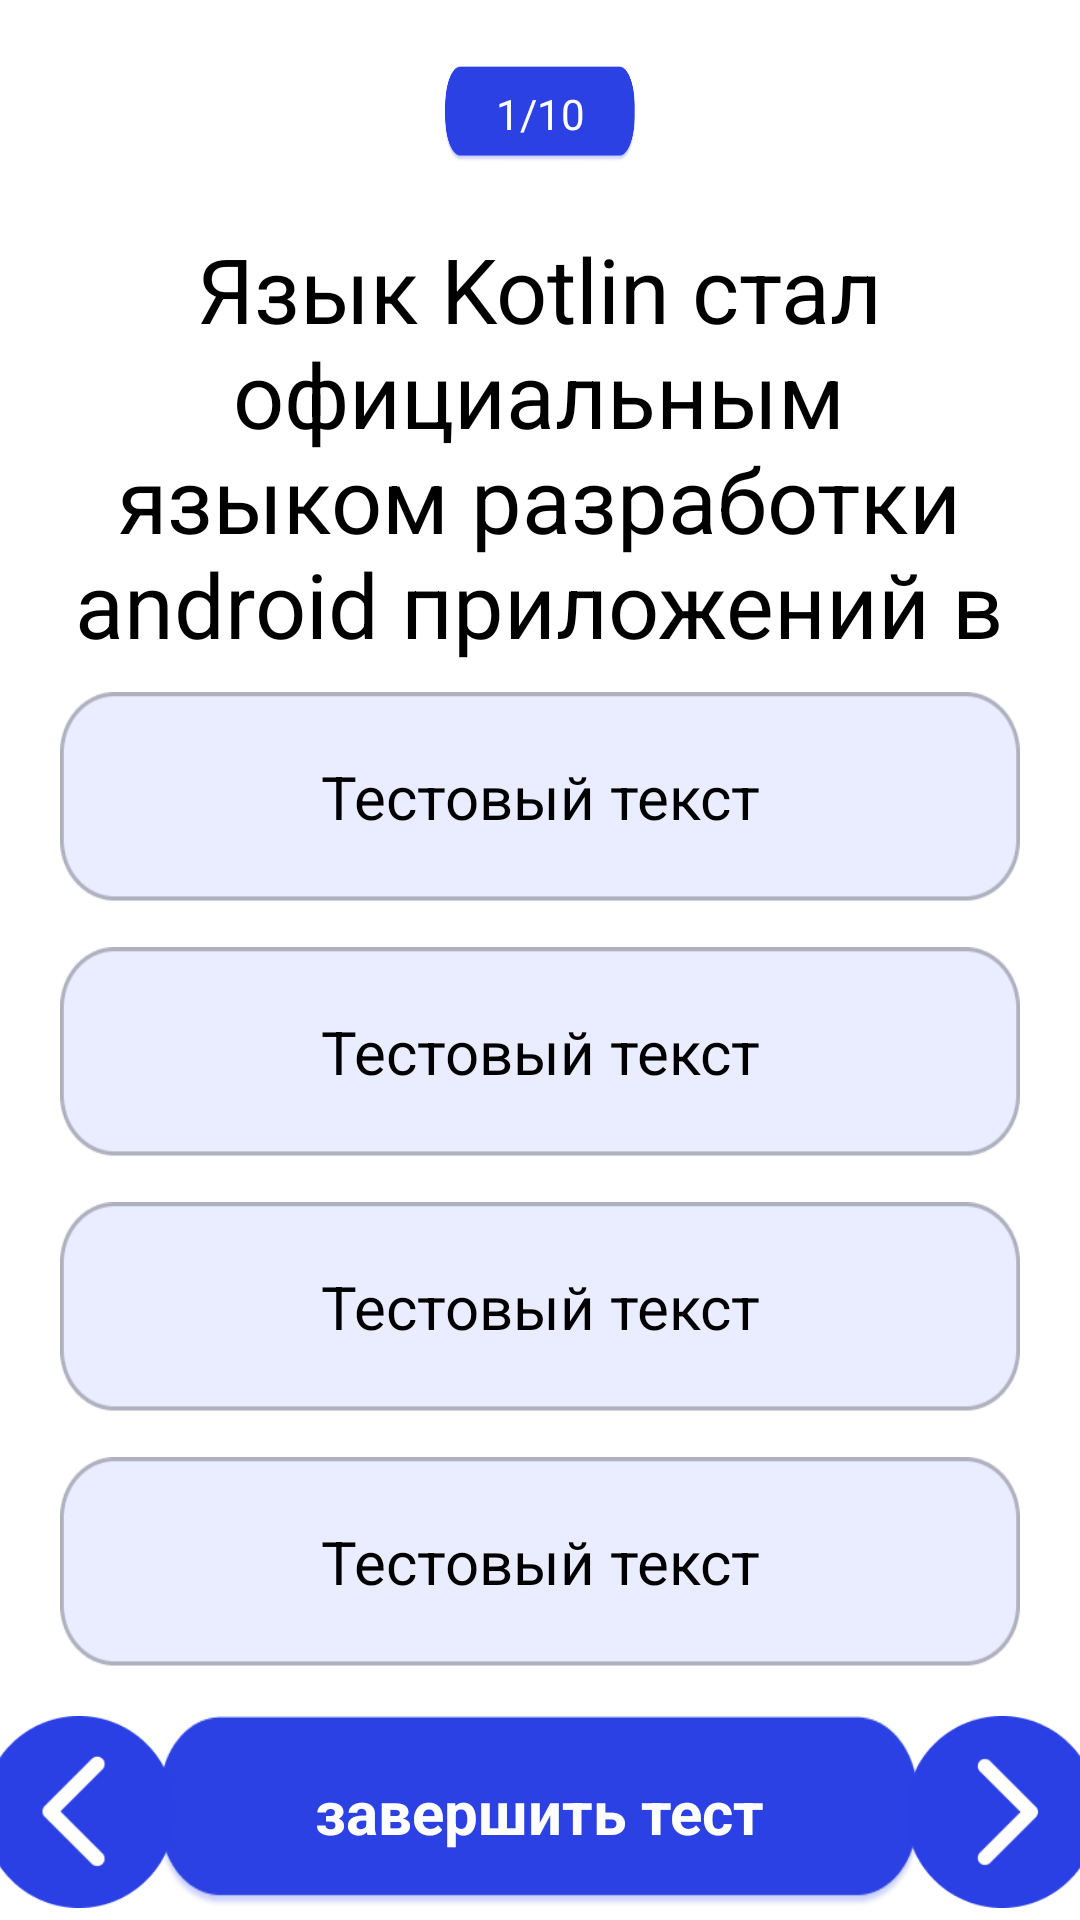

Icon click points for this 1080x1920 phone screenshot, format (x=x, y=y):
left arrow: (x=87, y=1812)
right arrow: (x=993, y=1812)
